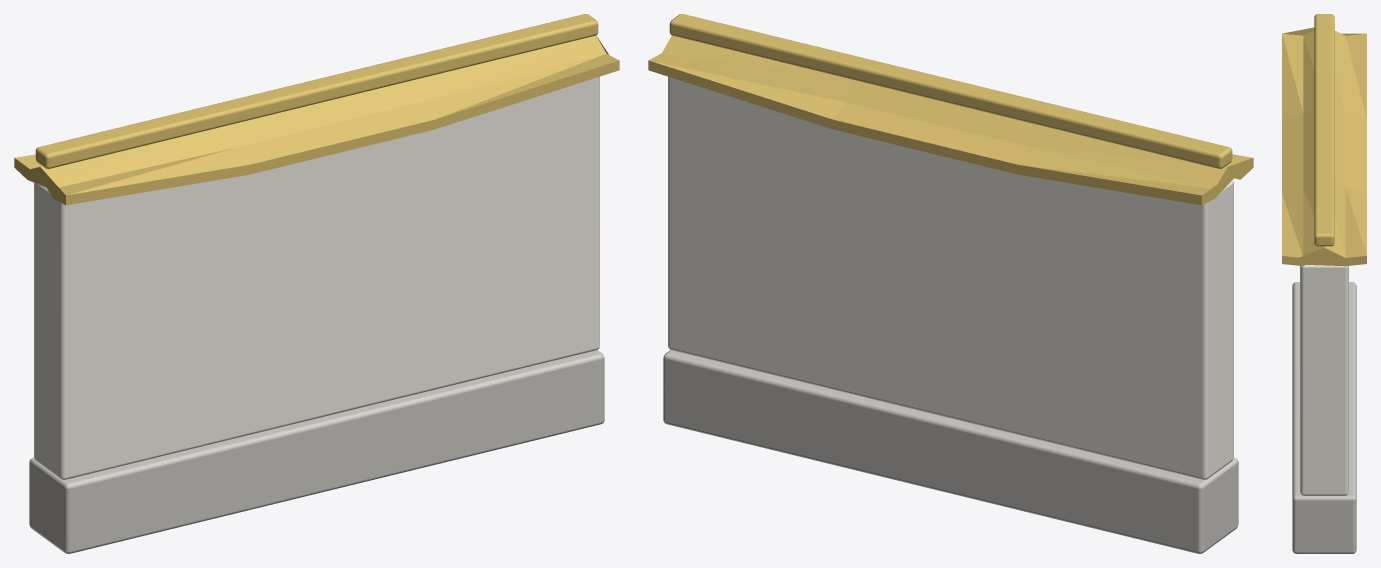
File: wall.gltf
The picture shows the model from 3 angles, left to right: view 1: azimuth 30°, elevation 25°; view 2: azimuth 150°, elevation 25°; view 3: azimuth 270°, elevation 25°; orthographic projection. The views are drawn at different scales.
Parts seen in each view (by area): view 1: 064-palace-wall-straight/1, 064-palace-wall-straight/0, 064-palace-wall-straight/2; view 2: 064-palace-wall-straight/1, 064-palace-wall-straight/0, 064-palace-wall-straight/2; view 3: 064-palace-wall-straight/2, 064-palace-wall-straight/1, 064-palace-wall-straight/0.
Part boxes in pixels (<box>): 064-palace-wall-straight/1: <box>34,76,599,479</box>; 064-palace-wall-straight/0: <box>29,350,604,553</box>; 064-palace-wall-straight/2: <box>14,14,619,205</box>; 064-palace-wall-straight/1: <box>668,76,1233,479</box>; 064-palace-wall-straight/0: <box>663,350,1238,553</box>; 064-palace-wall-straight/2: <box>648,14,1253,205</box>; 064-palace-wall-straight/2: <box>1282,14,1366,266</box>; 064-palace-wall-straight/1: <box>1300,265,1348,495</box>; 064-palace-wall-straight/0: <box>1292,282,1356,553</box>.
Bounding box in the file's own units: 4.1 × 2.78 × 0.6602.
